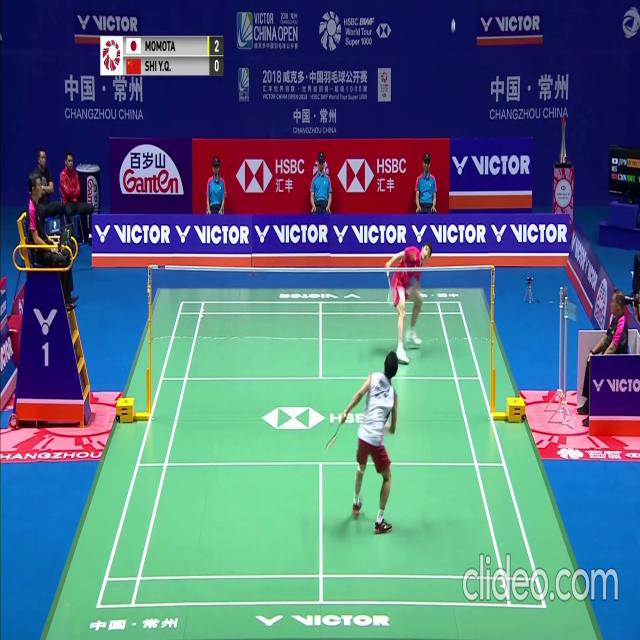Shuttlecock: (451, 16, 456, 23)
